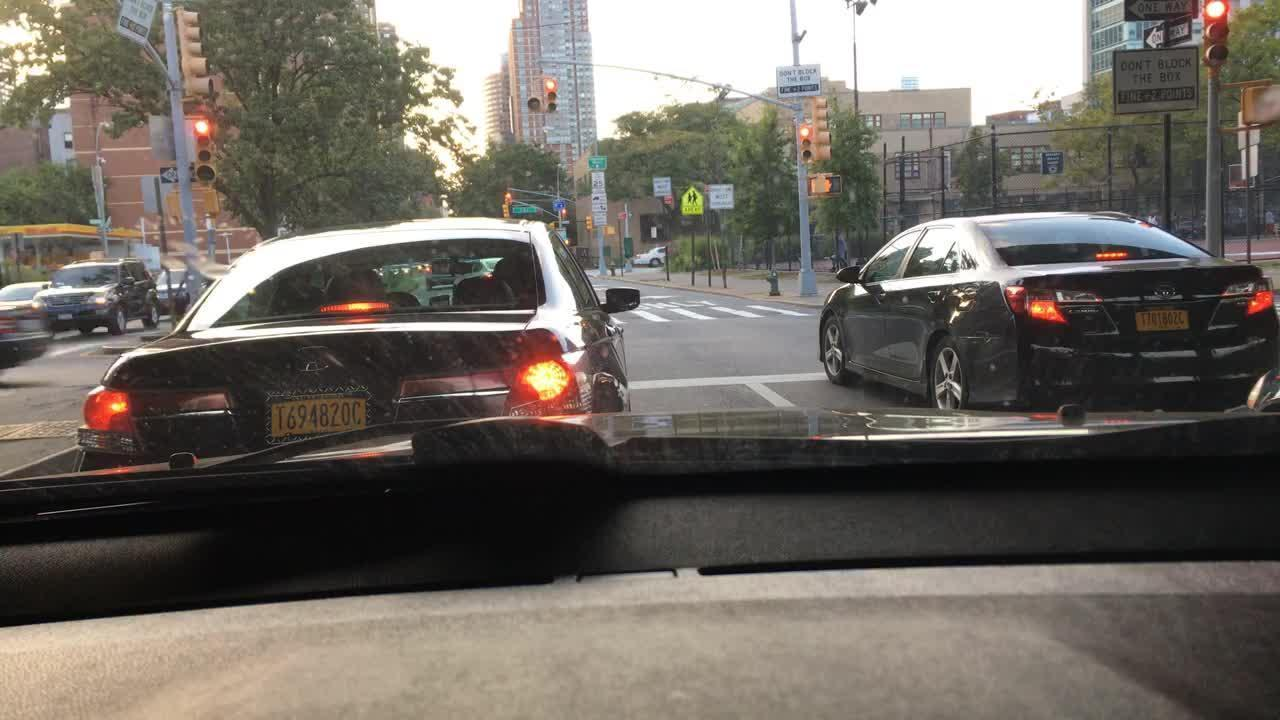Toyota: (1149, 280, 1179, 302)
acura: (289, 342, 339, 378)
